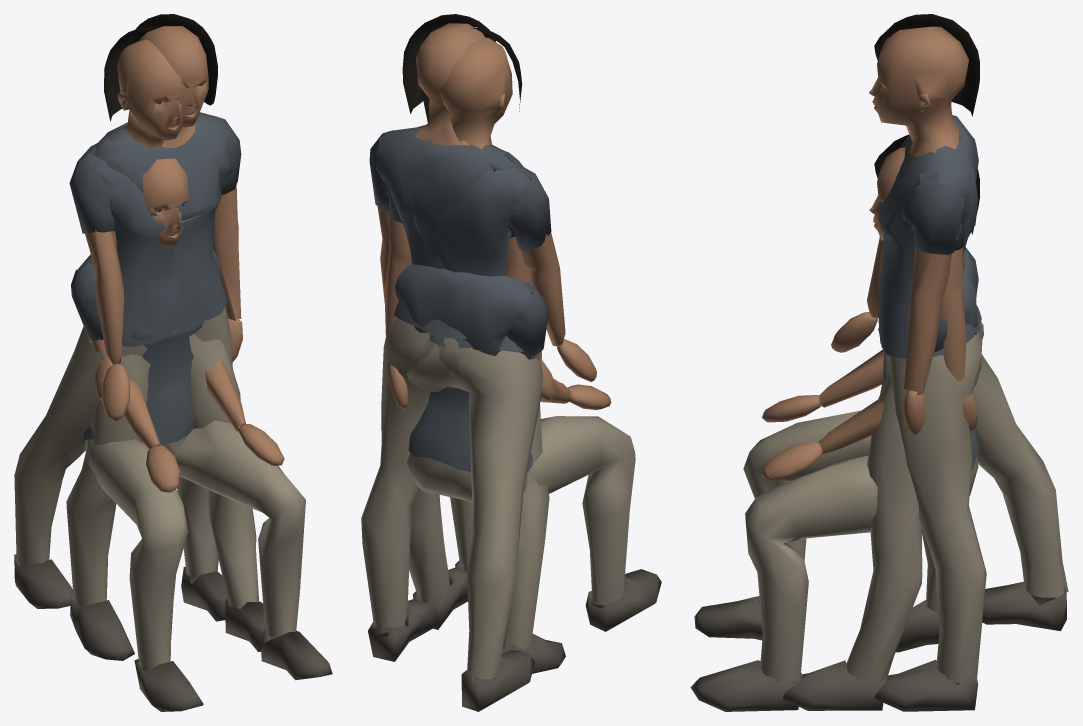
Rendered from crowd-01-far.glb.
3 renders of one model, left to right at view 1: azimuth 30°, elevation 25°; view 2: azimuth 150°, elevation 25°; view 3: azimuth 270°, elevation 25°, orthographic. The views are drawn at different scales.
Parts seen in each view (by area): view 1: walking, seated, standing; view 2: walking, standing, seated; view 3: standing, walking, seated.
Boxes of the visible parts, x1,y1,x2,y2 form: walking: (14, 27, 276, 651); seated: (71, 158, 332, 711); standing: (66, 14, 243, 660); walking: (384, 27, 596, 711); standing: (361, 14, 565, 673); seated: (395, 145, 661, 631); standing: (869, 14, 986, 711); walking: (782, 14, 1068, 710); seated: (690, 134, 979, 711).
Size of the model in its own units: 0.412 by 1.33 by 0.6867.
